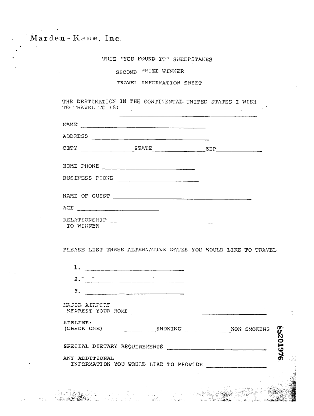textline: (112, 193, 252, 201), (130, 308, 267, 316), (80, 121, 206, 129), (118, 110, 257, 117), (91, 133, 209, 141), (84, 264, 185, 272), (84, 287, 185, 295), (102, 163, 195, 171), (109, 217, 213, 224), (84, 276, 185, 283), (166, 344, 266, 351), (115, 175, 199, 182), (77, 205, 160, 212), (205, 361, 266, 369), (151, 146, 206, 153), (80, 145, 134, 152), (215, 146, 262, 153), (184, 327, 231, 333), (123, 327, 156, 333)
